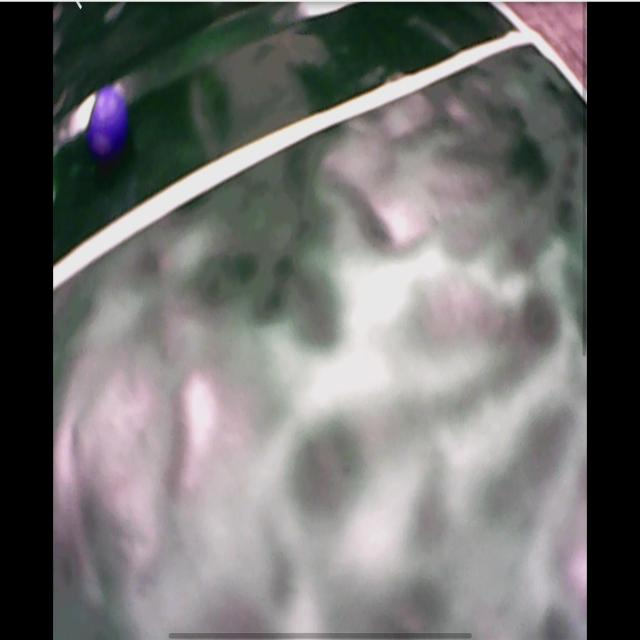ball: (88, 89, 124, 147)
